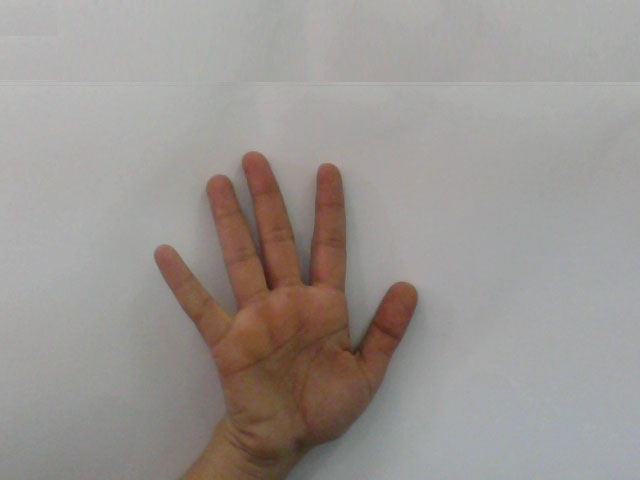hand: (135, 141, 425, 447)
